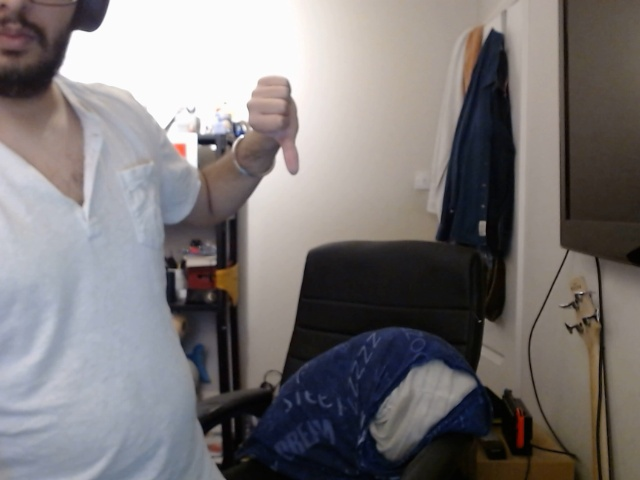Thumbs down: (235, 64, 322, 182)
